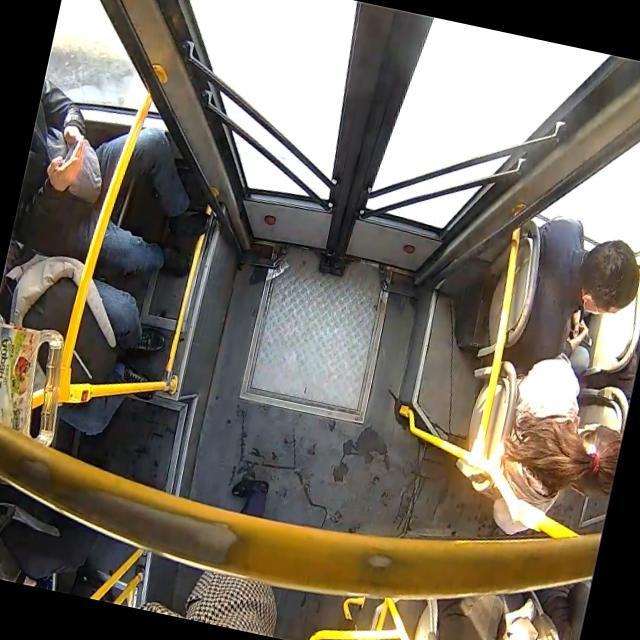bus-door: (99, 0, 640, 287)
